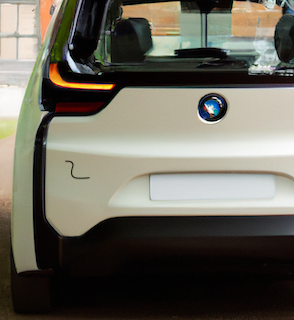scratch: (60, 155, 91, 187)
